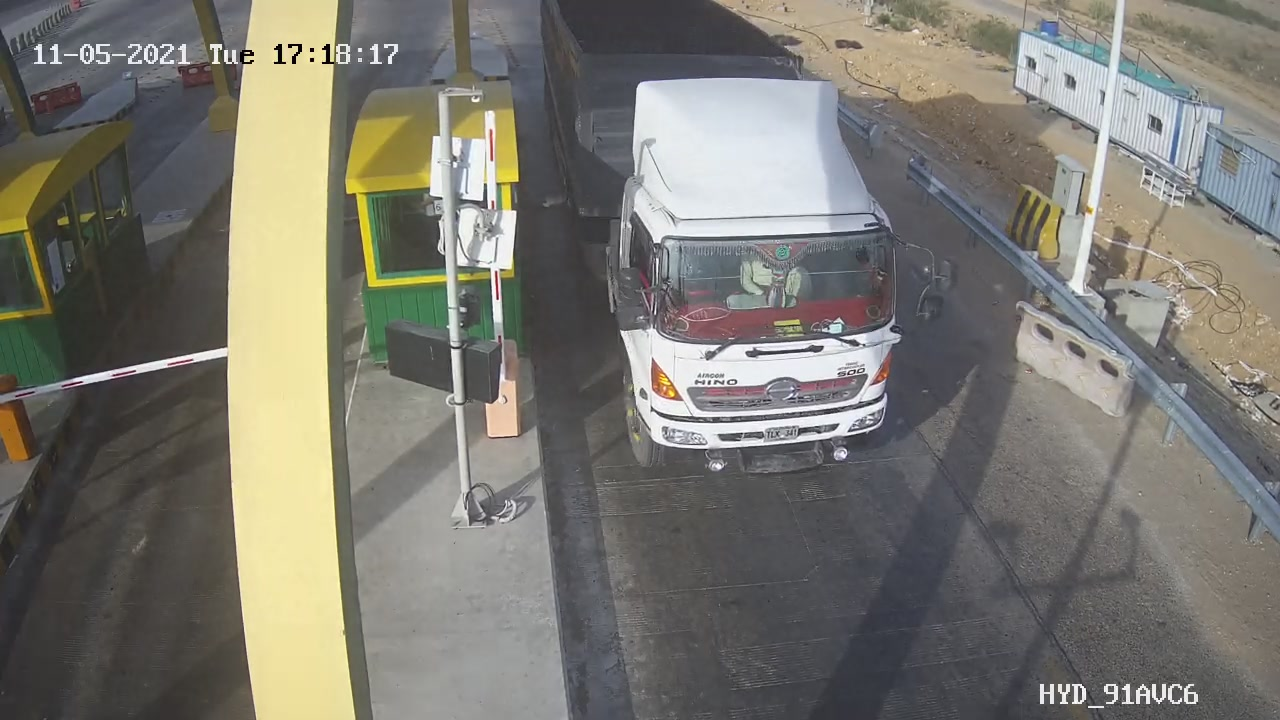F6: (518, 1, 974, 505)
